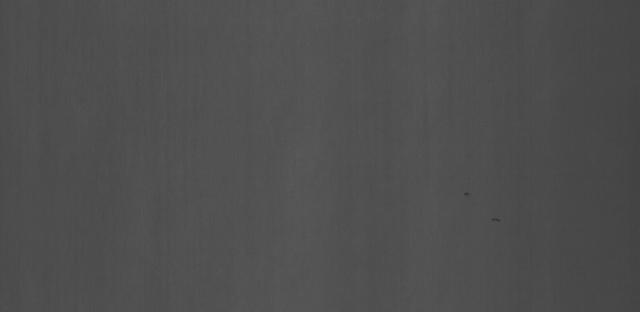inclusion: (452, 178, 478, 214), (484, 207, 512, 228)
